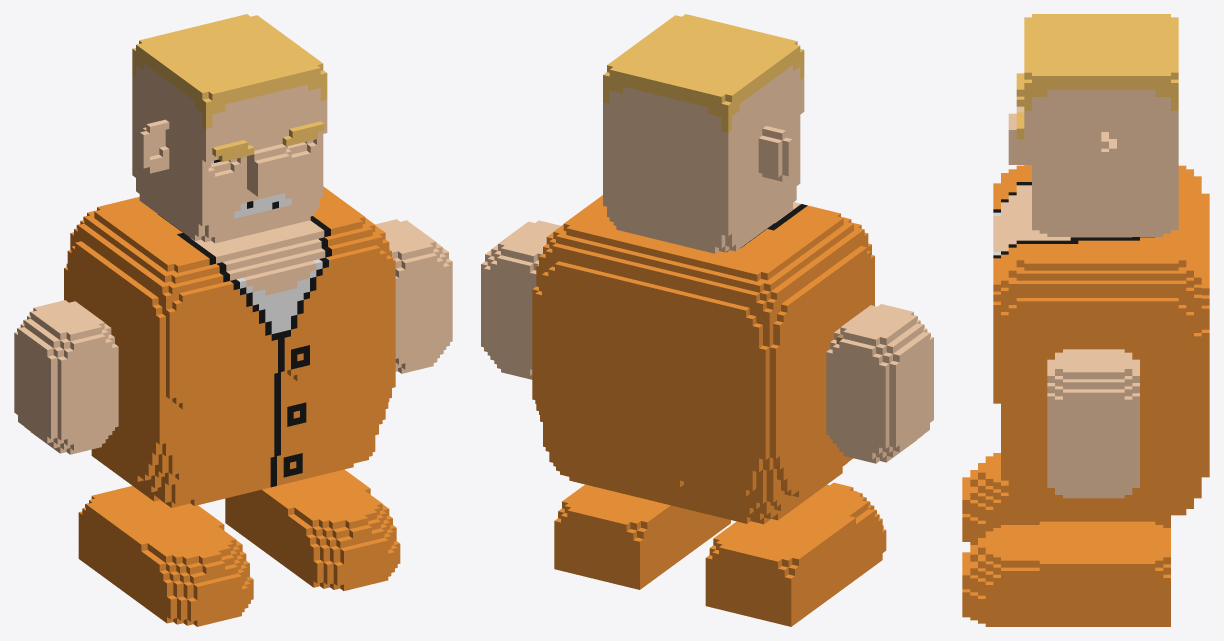
Rendered from Prisoner_Enemy_3.obj.
3 views of the same model, side by side, from view 1: azimuth 30°, elevation 25°; view 2: azimuth 150°, elevation 25°; view 3: azimuth 270°, elevation 25° (orthographic). The views are drawn at different scales.
Size of the model in its own units: 63 by 75 by 32.
Materials: 1 (1 with a texture image).
